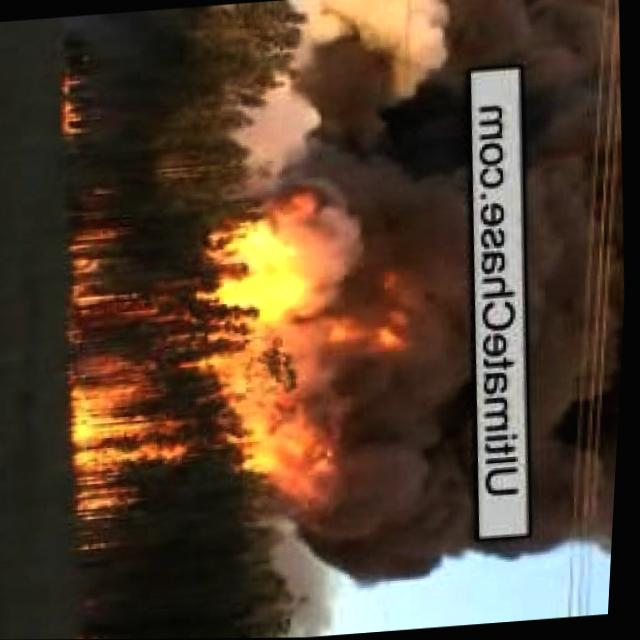helmet: (52, 178, 411, 522), (56, 68, 92, 137), (75, 634, 109, 639)
no_helmet: (302, 0, 507, 583), (499, 0, 640, 565), (56, 68, 92, 137), (75, 634, 109, 639)
